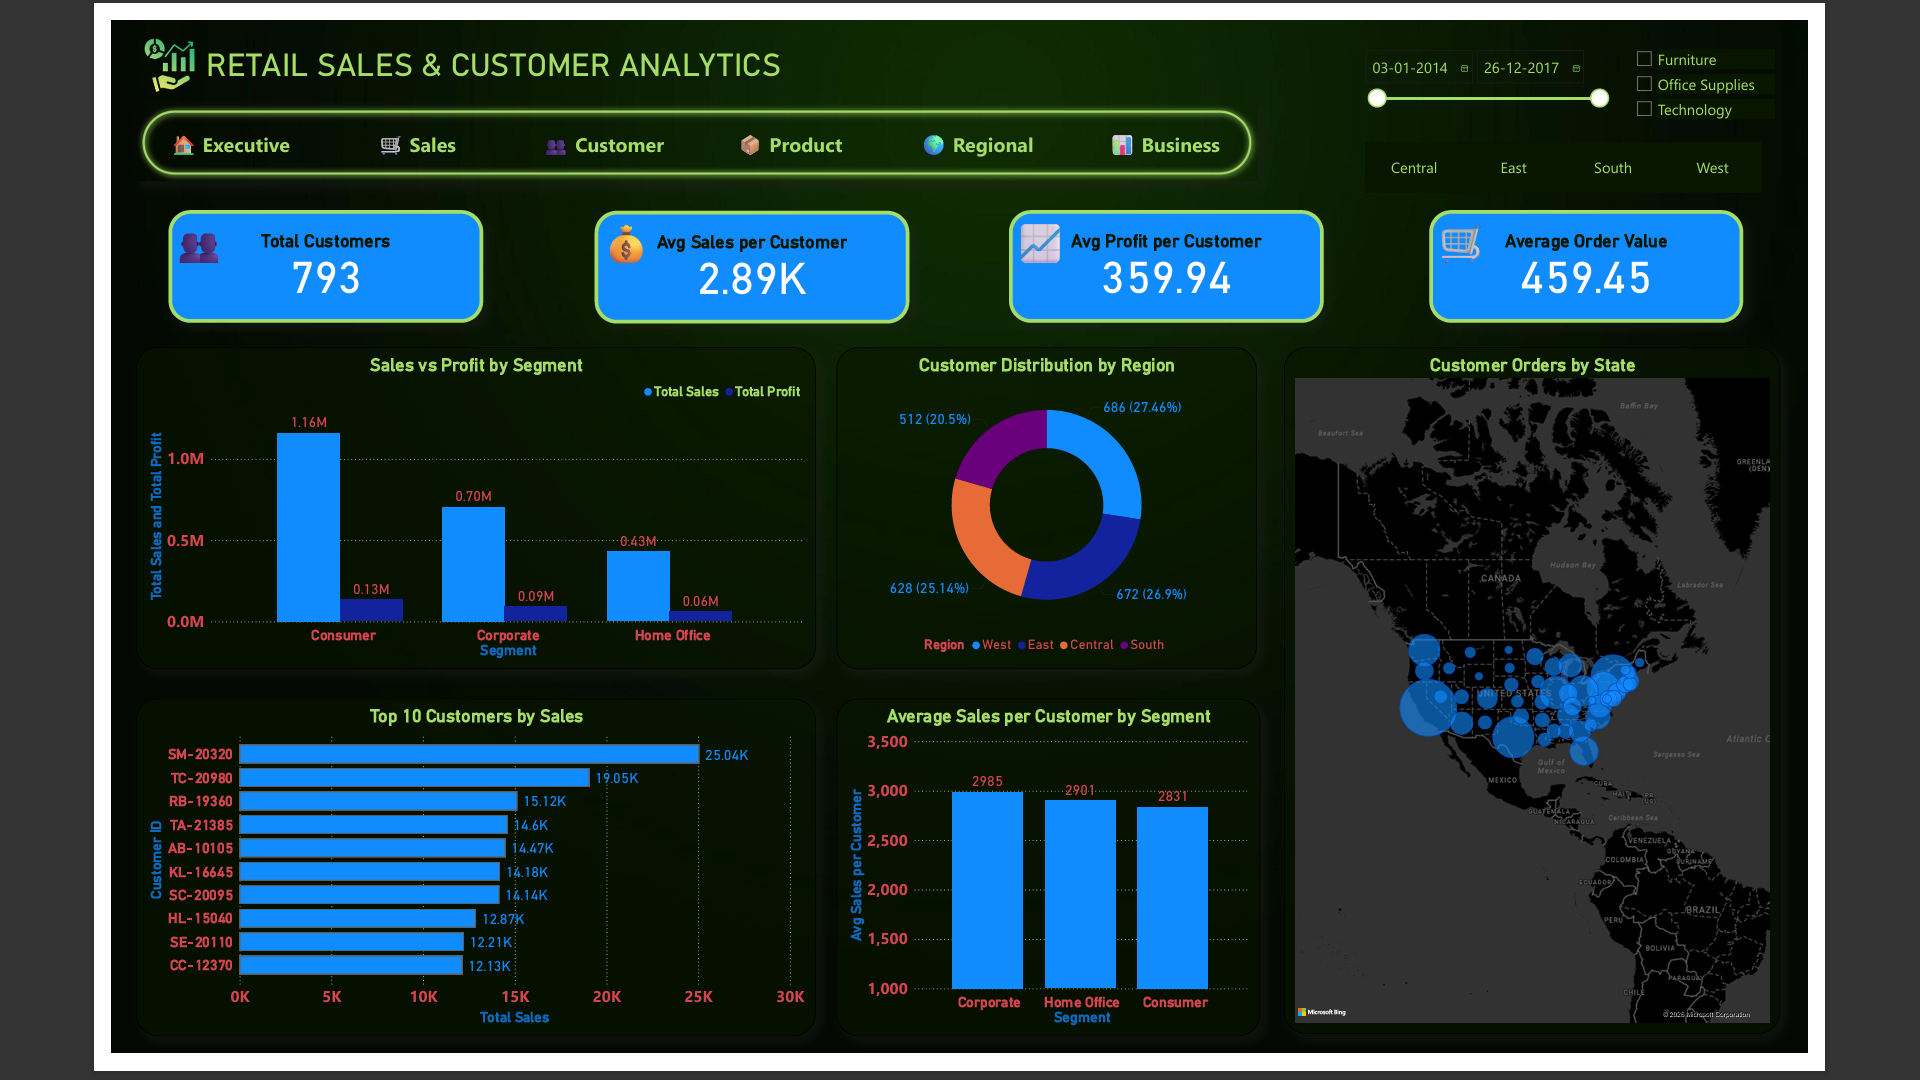

This screenshot's page, from the dashboard's own definition file:
{"tool":"powerbi","page":{"name":"Customer Analytics","canvas":[2300,1400],"ordinal":1},"visuals":[{"type":"group","id":"g1","title":"Group 2","box":[33.3,113.3,1523.3,103.3],"z":0},{"type":"actionButton","box":[33.3,113.3,1522.5,105],"z":0,"group":"g1"},{"type":"cardVisual","fields":{"Data":["Sample_ Superstore.Total Customers"]},"box":[76.7,256.7,426.7,153.3],"z":0,"group":"g3"},{"type":"cardVisual","fields":{"Data":["Sample_ Superstore.Avg Profit per Customer"]},"box":[1216.7,256.7,426.7,153.3],"z":0,"group":"g5"},{"type":"cardVisual","fields":{"Data":["Sample_ Superstore.Avg Sales per Customer"]},"box":[655,257.5,426.7,153.3],"z":0,"group":"g4"},{"type":"actionButton","box":[33.3,117,254.7,101.3],"z":1000,"group":"g2"},{"type":"cardVisual","fields":{"Data":["Sample_ Superstore.Average Order Value"]},"box":[1786.7,256.7,426.7,153.3],"z":1000},{"type":"textbox","box":[77.8,257.8,426.7,90],"z":1000,"group":"g3"},{"type":"textbox","box":[1217.8,257.8,426.7,90],"z":1000,"group":"g5"},{"type":"textbox","box":[656.1,258.6,426.7,90],"z":1000,"group":"g4"},{"type":"image","box":[32.5,23.3,90,75],"z":2000},{"type":"actionButton","box":[287.3,117,253.3,101.3],"z":2000,"group":"g2"},{"type":"actionButton","box":[541,117,252.5,101.3],"z":3000,"group":"g2"},{"type":"textbox","box":[1787.8,257.8,426.7,83.3],"z":3000},{"type":"group","id":"g2","title":"Group 1","box":[33.3,117,1522.5,101.3],"z":3004,"group":"g1"},{"type":"textbox","box":[122.5,30,1065,75],"z":4000},{"type":"actionButton","box":[793.4,117,252.5,101.3],"z":4000,"group":"g2"},{"type":"slicer","fields":{"Values":["Sample_ Superstore.Order Date"]},"box":[1687.5,30,352.5,97.5],"z":5000},{"type":"actionButton","box":[1047.1,117,253.3,101.3],"z":5000,"group":"g2"},{"type":"actionButton","box":[1301.1,117,254.7,101.3],"z":6000,"group":"g2"},{"type":"slicer","fields":{"Values":["Sample_ Superstore.Region"]},"box":[1674,158,588,82],"z":6000},{"type":"slicer","fields":{"Values":["Sample_ Superstore.Category"]},"box":[2056,30,206,116],"z":7000},{"type":"group","id":"g3","title":"Group 3","box":[76.7,256.7,427.8,153.3],"z":8000},{"type":"group","id":"g4","title":"Group 3","box":[655,257.5,425,152.5],"z":9000},{"type":"group","id":"g5","title":"Group 3","box":[1216.7,256.7,427.8,153.3],"z":10000},{"type":"clusteredColumnChart","title":"Average Sales per Customer by Segment","fields":{"Y":["Sample_ Superstore.Avg Sales per Customer"],"Category":["Sample_ Superstore.Segment"]},"box":[982.5,920,575,457.5],"z":11000},{"type":"donutChart","title":"Customer Distribution by Region","fields":{"Category":["Sample_ Superstore.Region"],"Y":["Sample_ Superstore.Total Customers"]},"box":[983.3,443.3,570,436.7],"z":12000},{"type":"clusteredBarChart","title":"Top 10 Customers by Sales","fields":{"Y":["Sample_ Superstore.Total Sales"],"Category":["Sample_ Superstore.Customer ID"]},"box":[32.5,920,922.5,457.5],"z":13000},{"type":"map","title":"Customer Orders by State","fields":{"Category":["Sample_ Superstore.State"],"Size":["Sample_ Superstore.Total Orders"]},"box":[1590,442.5,672.5,932.5],"z":14000},{"type":"clusteredColumnChart","title":"Sales vs Profit by Segment","fields":{"Category":["Sample_ Superstore.Segment"],"Y":["Sample_ Superstore.Total Sales","Sample_ Superstore.Total Profit"]},"box":[32.5,442.5,922.5,437.5],"z":15000}]}

Visuals, with their boxes on the page's 2300x1400 design canvas (x1, y1, x2, y2). These are canvas units, not pixel positions in the 1920x1080 screenshot, which may show the page scaled, cropped or inside an application window:
"Group 2" group: bbox(33, 113, 1557, 217)
actionButton: bbox(33, 113, 1556, 218)
cardVisual - Sample_ Superstore.Total Customers: bbox(77, 257, 503, 410)
cardVisual - Sample_ Superstore.Avg Profit per Customer: bbox(1217, 257, 1643, 410)
cardVisual - Sample_ Superstore.Avg Sales per Customer: bbox(655, 258, 1082, 411)
actionButton: bbox(33, 117, 288, 218)
cardVisual - Sample_ Superstore.Average Order Value: bbox(1787, 257, 2213, 410)
textbox: bbox(78, 258, 504, 348)
textbox: bbox(1218, 258, 1644, 348)
textbox: bbox(656, 259, 1083, 349)
image: bbox(32, 23, 122, 98)
actionButton: bbox(287, 117, 541, 218)
actionButton: bbox(541, 117, 794, 218)
textbox: bbox(1788, 258, 2214, 341)
"Group 1" group: bbox(33, 117, 1556, 218)
textbox: bbox(122, 30, 1188, 105)
actionButton: bbox(793, 117, 1046, 218)
slicer - Sample_ Superstore.Order Date: bbox(1688, 30, 2040, 128)
actionButton: bbox(1047, 117, 1300, 218)
actionButton: bbox(1301, 117, 1556, 218)
slicer - Sample_ Superstore.Region: bbox(1674, 158, 2262, 240)
slicer - Sample_ Superstore.Category: bbox(2056, 30, 2262, 146)
"Group 3" group: bbox(77, 257, 504, 410)
"Group 3" group: bbox(655, 258, 1080, 410)
"Group 3" group: bbox(1217, 257, 1644, 410)
"Average Sales per Customer by Segment" clusteredColumnChart: bbox(982, 920, 1558, 1378)
"Customer Distribution by Region" donutChart: bbox(983, 443, 1553, 880)
"Top 10 Customers by Sales" clusteredBarChart: bbox(32, 920, 955, 1378)
"Customer Orders by State" map: bbox(1590, 442, 2262, 1375)
"Sales vs Profit by Segment" clusteredColumnChart: bbox(32, 442, 955, 880)
